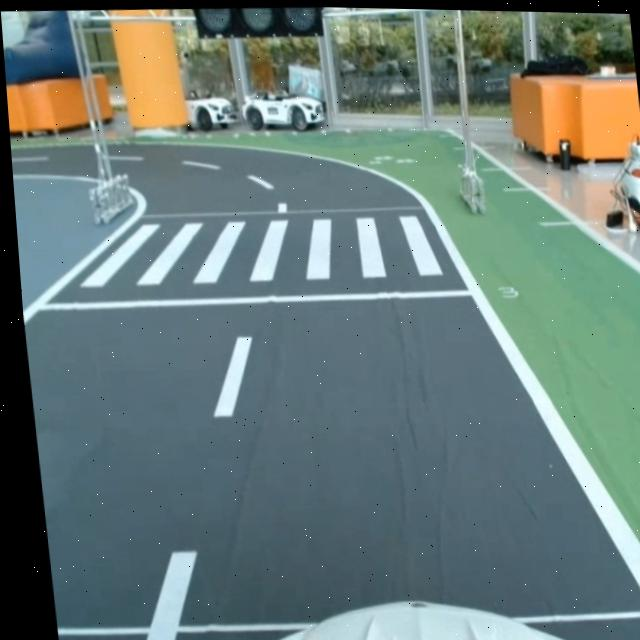traffic-light: (186, 4, 330, 44)
